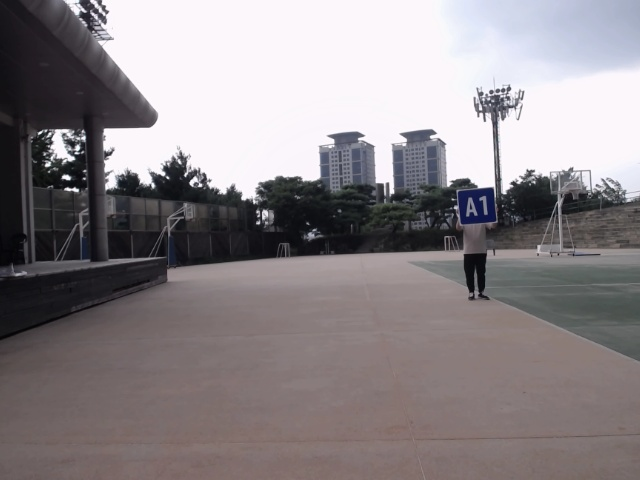delivery_a1: (457, 188, 497, 225)
